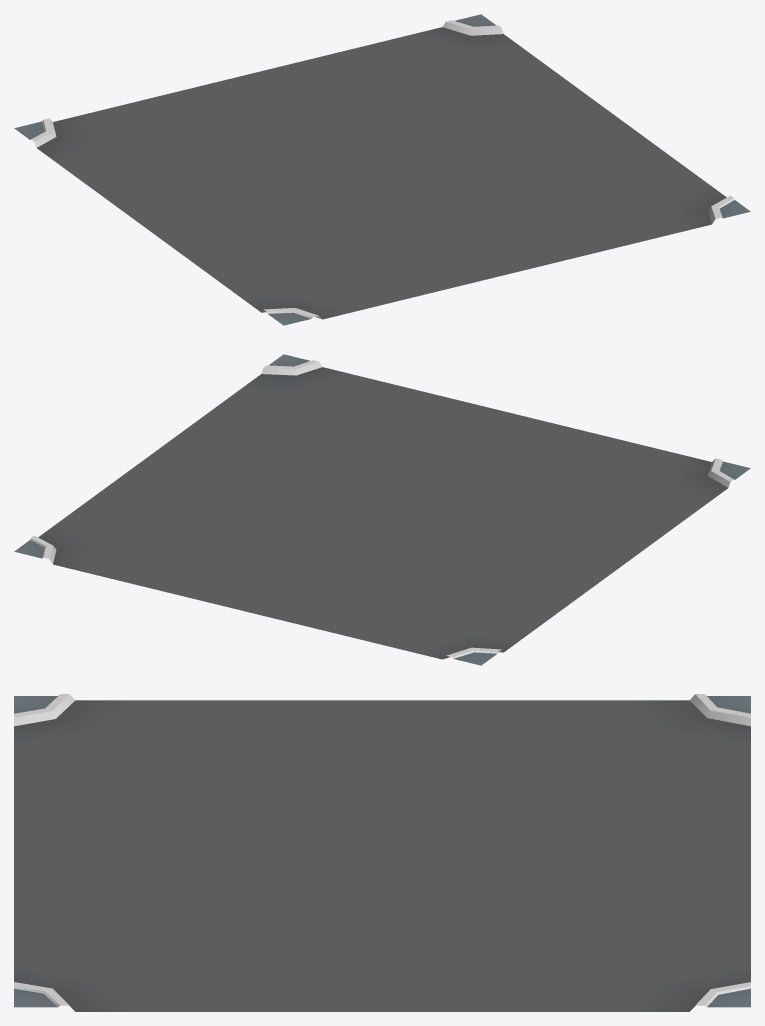
File: OnewayRoad05.fbx
3 renders of one model, top to bottom at view 1: azimuth 30°, elevation 25°; view 2: azimuth 150°, elevation 25°; view 3: azimuth 270°, elevation 25°, orthographic. The views are drawn at different scales.
Visible parts, largest first — view 1: SRoad13.003; view 2: SRoad13.003; view 3: SRoad13.003.
Boxes of the visible parts, <box> form: SRoad13.003: <box>14,14,750,325</box>; SRoad13.003: <box>14,354,750,665</box>; SRoad13.003: <box>14,694,750,1011</box>.
Size of the model in its own units: 6 by 0.0569 by 6.
